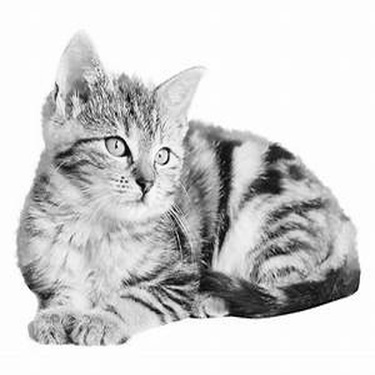cat: (14, 27, 361, 346)
